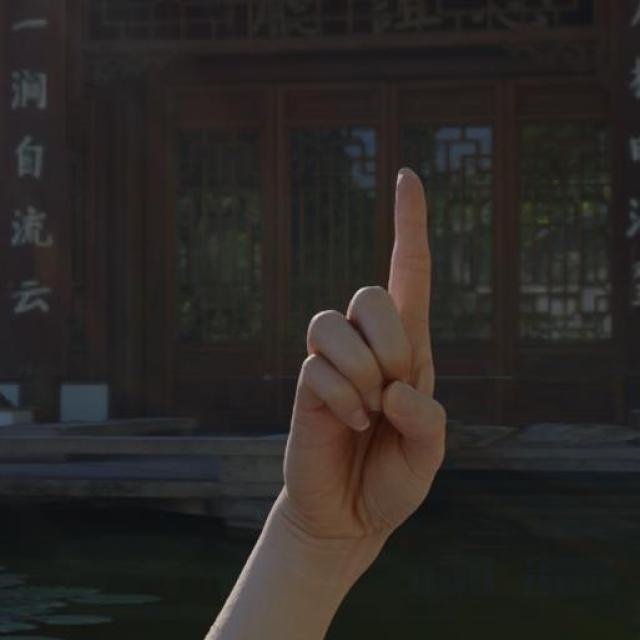D: (272, 160, 454, 546)
